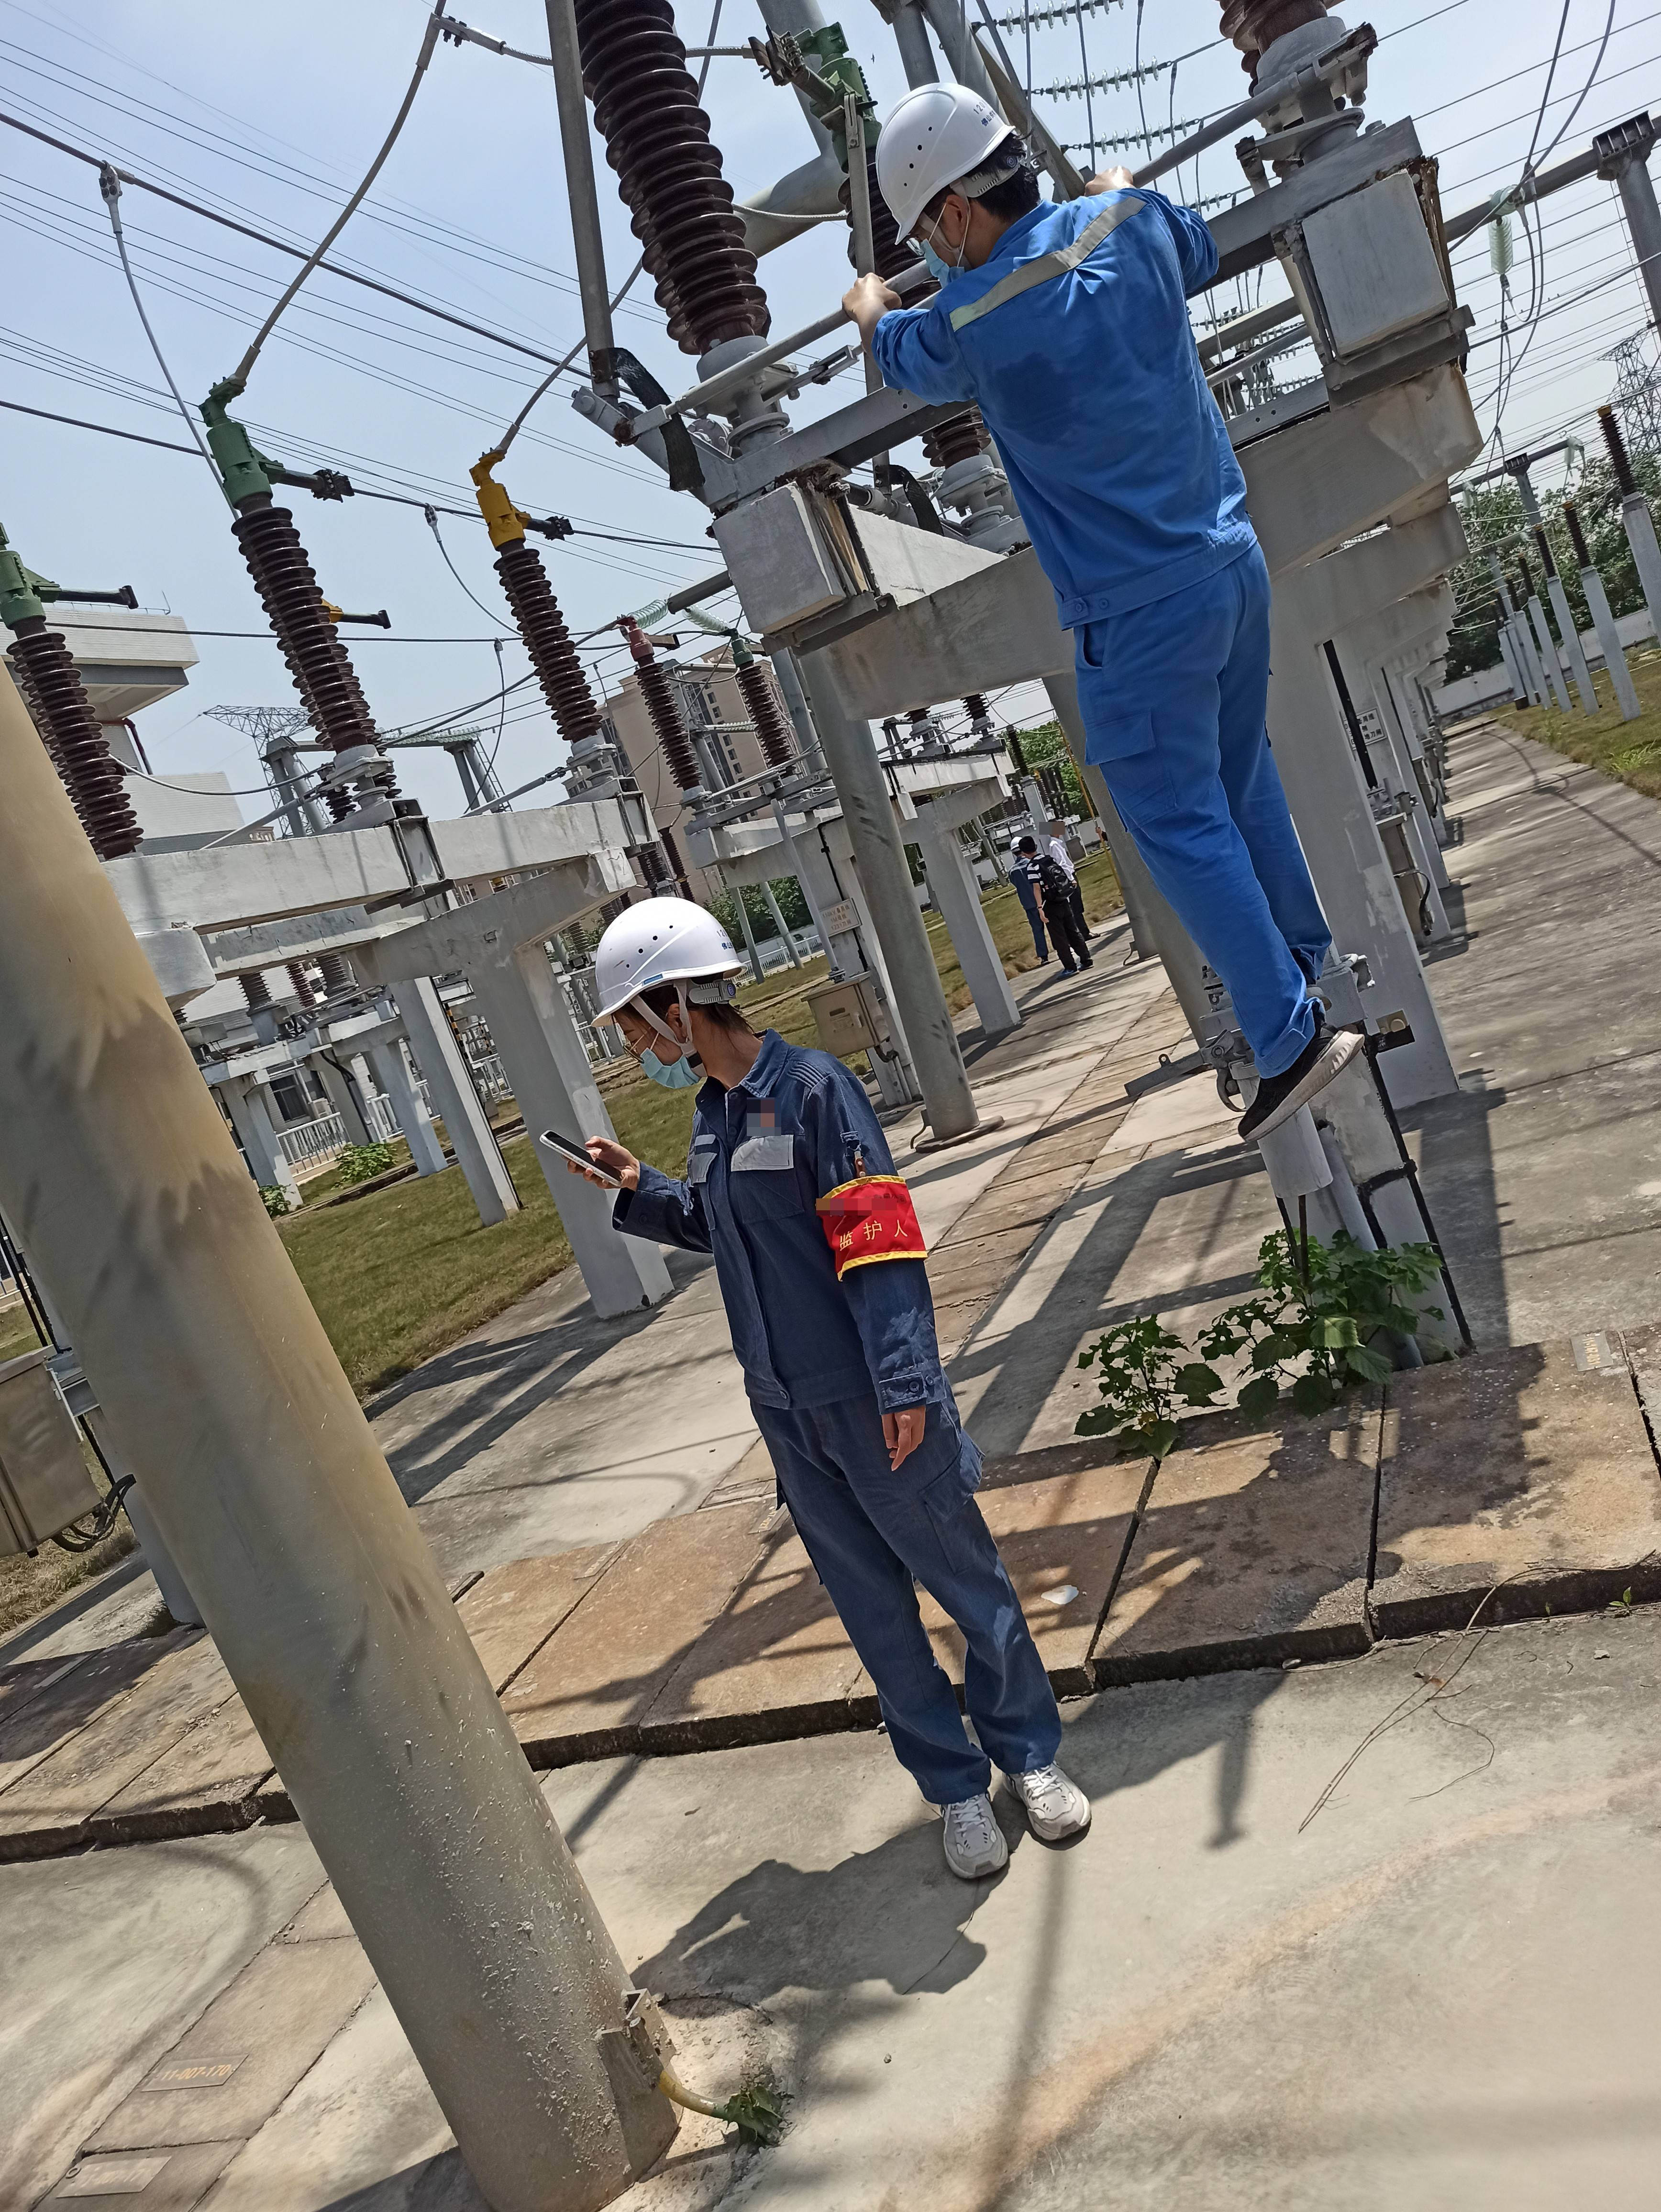downsuit: (740, 1404, 1073, 1774), (1073, 623, 1352, 1050)
upsuit: (867, 188, 1270, 612), (618, 1059, 953, 1394)
wrongtop: (839, 270, 911, 366)
